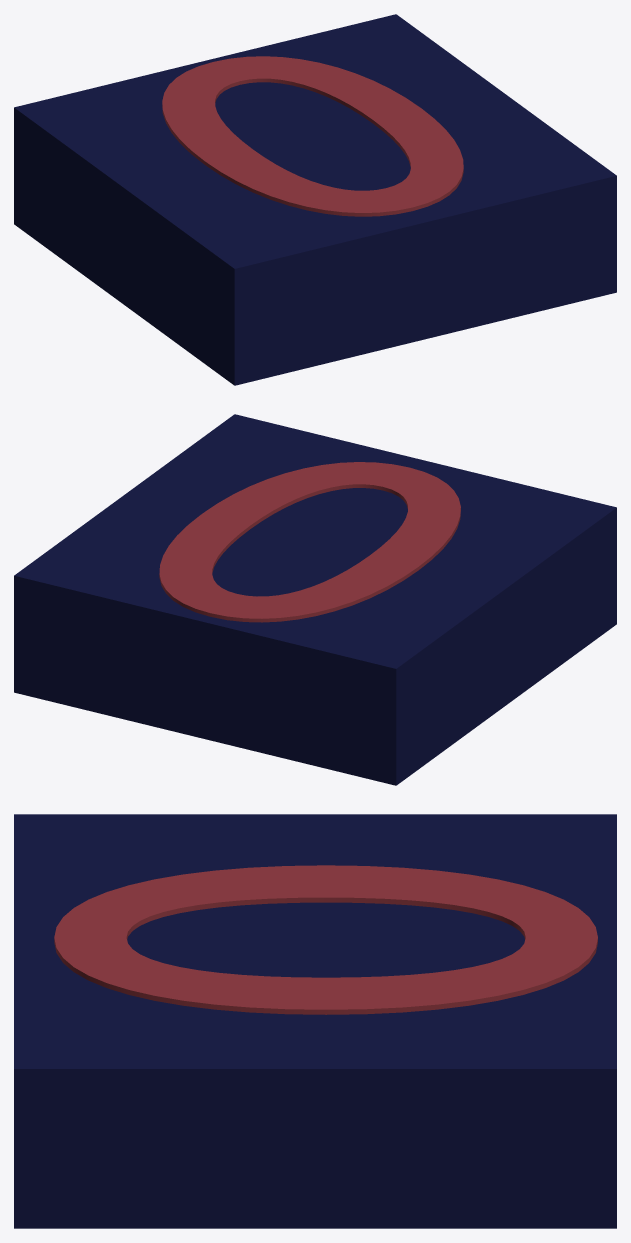
The model's file is zero-pad.fbx.
The picture shows the model from 3 angles, top to bottom: view 1: azimuth 30°, elevation 25°; view 2: azimuth 150°, elevation 25°; view 3: azimuth 270°, elevation 25°; orthographic projection. The views are drawn at different scales.
Visible parts, largest first — view 1: Cube, Text; view 2: Cube, Text; view 3: Cube, Text.
Boxes of the visible parts, bbox=[...] form: Cube: bbox=[14, 14, 616, 385]; Text: bbox=[162, 56, 463, 216]; Cube: bbox=[14, 414, 616, 785]; Text: bbox=[159, 462, 460, 622]; Cube: bbox=[14, 814, 616, 1228]; Text: bbox=[54, 865, 597, 1014].
Bounding box in the file's own units: 200 × 60.26 × 200.
